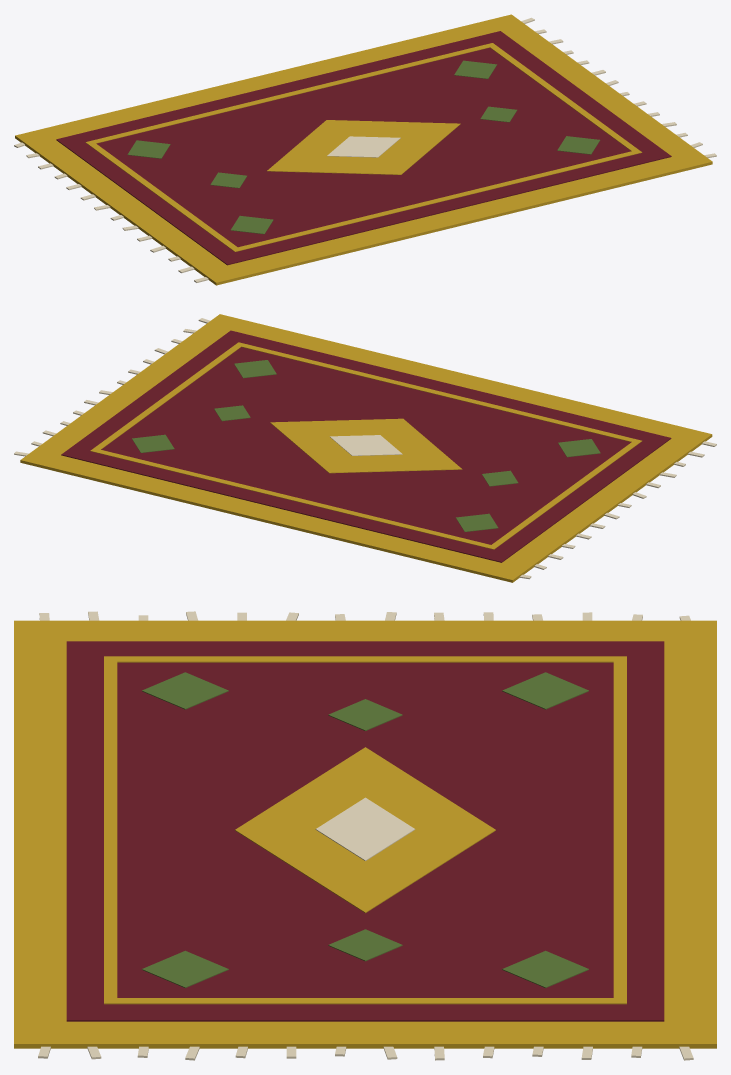
File: Vloerkleed.glb
3 views of the same model, one above another, from view 1: azimuth 30°, elevation 25°; view 2: azimuth 150°, elevation 25°; view 3: azimuth 270°, elevation 25° (orthographic). The views are drawn at different scales.
Parts seen in each view (by area): view 1: Field, BorderAndPattern, PatternMoss, PatternCreamAndFringe; view 2: Field, BorderAndPattern, PatternMoss, PatternCreamAndFringe; view 3: Field, BorderAndPattern, PatternMoss, PatternCreamAndFringe.
Boxes of the visible parts, x1,y1,x2,y2 form: Field: (56,31,671,265); BorderAndPattern: (15,14,712,285); PatternMoss: (127,60,600,234); PatternCreamAndFringe: (14,17,716,282); Field: (61,330,671,562); BorderAndPattern: (20,314,712,582); PatternMoss: (132,360,600,531); PatternCreamAndFringe: (14,318,716,579); Field: (66,641,664,1021); BorderAndPattern: (14,620,716,1048); PatternMoss: (142,672,588,988); PatternCreamAndFringe: (38,611,693,1060).
Size of the model in its own units: 2.41 by 0.02 by 1.6.
